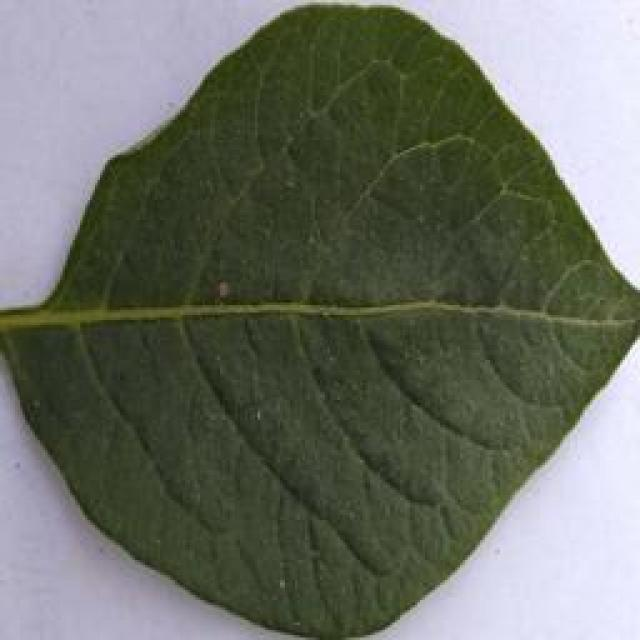Potato_Healthy: (2, 5, 626, 633)
